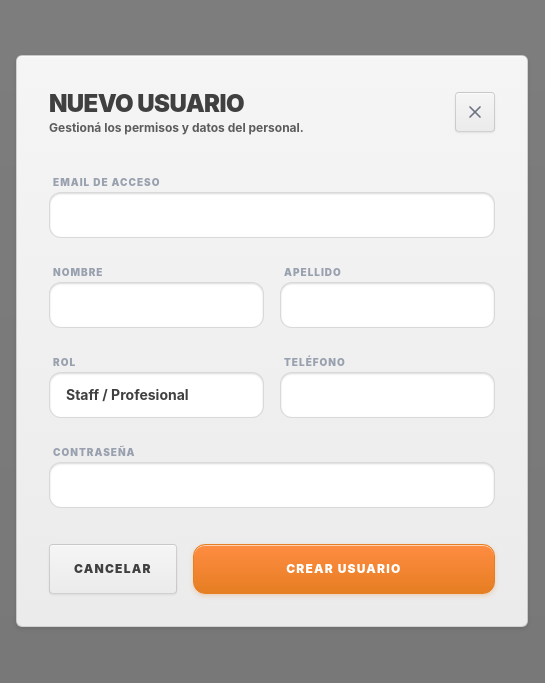
Scenario: UserFormModal: errores de validacion › un 422 del servidor en password dice la politica, nunca el texto crudo
Type "nuevo@example.com" into the field below "Email de Acceso".
click(272, 215); type("nuevo@example.com")  # box 49,192 -> 495,238
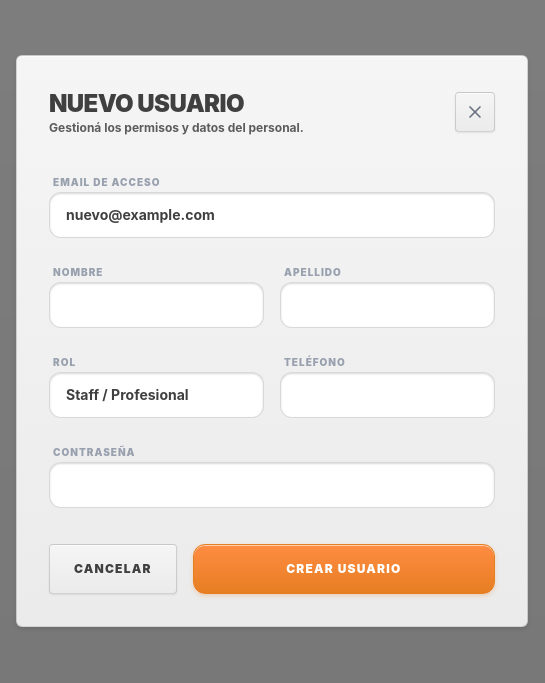
Type "Barberia2026ok" into the password field.
click(272, 485); type("Barberia2026ok")  # box 49,462 -> 495,508
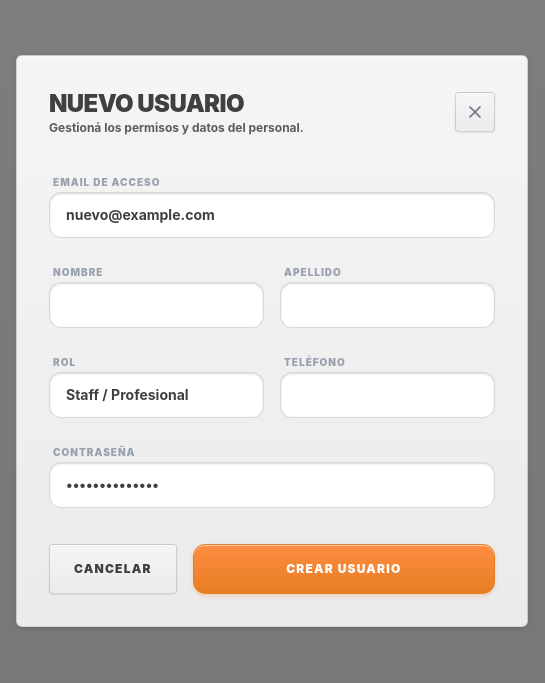
Submit the form, box 49,168 -> 495,594
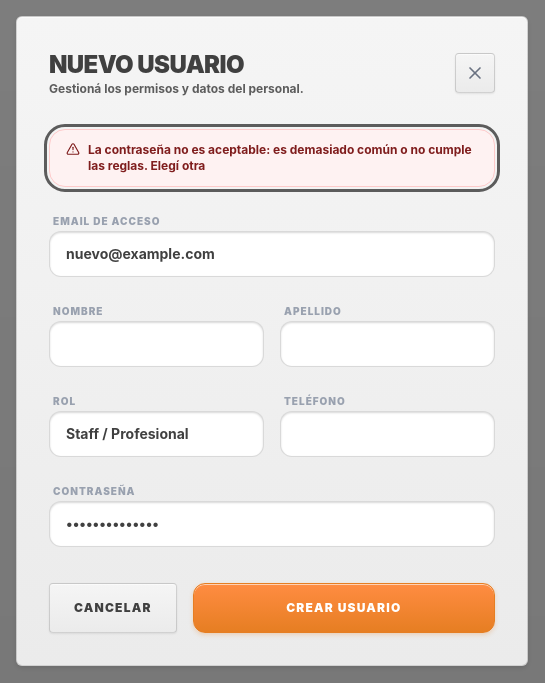
Check: the message does not show "Value error", box 49,129 -> 495,187
Check: the message shows "contraseña", box 88,142 -> 472,173
